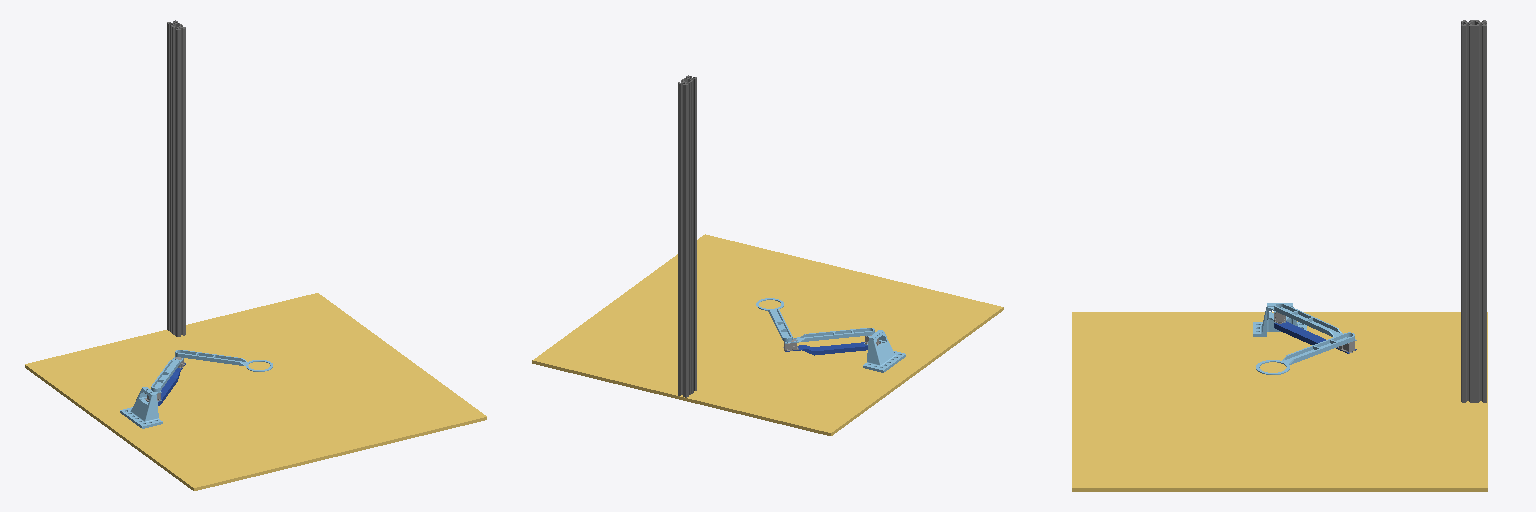
URDF robot description (project_robot):
<?xml version="1.0" ?>
<!-- Generated using onshape-to-robot -->
<!-- Onshape document_id: 0afb3ee3ed9d563e132452cb -->
<robot name="project_robot">
  <!-- Link part_1 -->
  <link name="part_1">
    <inertial>
      <origin xyz="0.241312 0.65195 0.0685751" rpy="0 0 0"/>
      <mass value="0.117967"/>
      <inertia ixx="0.00075606" ixy="-0.000672223" ixz="-0.00046422" iyy="0.00232655" iyz="-0.000159489" izz="0.00271358"/>
    </inertial>
    <!-- Part part_1 -->
    <visual>
      <origin xyz="0 0 0" rpy="0 -0 0"/>
      <geometry>
        <mesh filename="package://robot_desc/robot/assets/part_1.stl"/>
      </geometry>
      <material name="part_1_material">
        <color rgba="0.960784 0.835294 0.470588 1.0"/>
      </material>
    </visual>
    <collision>
      <origin xyz="0 0 0" rpy="0 -0 0"/>
      <geometry>
        <mesh filename="package://robot_desc/robot/assets/part_1.stl"/>
      </geometry>
    </collision>
    <!-- Part armbasemount -->
    <visual>
      <origin xyz="0.206816 0.6096 0.0727" rpy="1.5708 4.03897e-28 3.14159"/>
      <geometry>
        <mesh filename="package://robot_desc/robot/assets/armbasemount.stl"/>
      </geometry>
      <material name="armbasemount_material">
        <color rgba="0.615686 0.811765 0.929412 1.0"/>
      </material>
    </visual>
    <collision>
      <origin xyz="0.206816 0.6096 0.0727" rpy="1.5708 4.03897e-28 3.14159"/>
      <geometry>
        <mesh filename="package://robot_desc/robot/assets/armbasemount.stl"/>
      </geometry>
    </collision>
    <!-- Part 8020_1530_x_48 -->
    <visual>
      <origin xyz="0.6096 1.18015 0.0127" rpy="1.5708 2.51804e-27 1.5708"/>
      <geometry>
        <mesh filename="package://robot_desc/robot/assets/8020_1530_x_48.stl"/>
      </geometry>
      <material name="8020_1530_x_48_material">
        <color rgba="0.498039 0.498039 0.498039 1.0"/>
      </material>
    </visual>
    <collision>
      <origin xyz="0.6096 1.18015 0.0127" rpy="1.5708 2.51804e-27 1.5708"/>
      <geometry>
        <mesh filename="package://robot_desc/robot/assets/8020_1530_x_48.stl"/>
      </geometry>
    </collision>
    <!-- Part dynamixelmotor -->
    <visual>
      <origin xyz="0.194816 0.6096 0.09075" rpy="1.50988e-27 -1.59872e-14 -1.5708"/>
      <geometry>
        <mesh filename="package://robot_desc/robot/assets/dynamixelmotor.stl"/>
      </geometry>
      <material name="dynamixelmotor_material">
        <color rgba="0.647059 0.647059 0.647059 1.0"/>
      </material>
    </visual>
    <collision>
      <origin xyz="0.194816 0.6096 0.09075" rpy="1.50988e-27 -1.59872e-14 -1.5708"/>
      <geometry>
        <mesh filename="package://robot_desc/robot/assets/dynamixelmotor.stl"/>
      </geometry>
    </collision>
    <!-- Part topshoulderlink -->
    <visual>
      <origin xyz="0.318995 0.725464 0.11125" rpy="-5.45442e-16 -1.37603e-15 0.751951"/>
      <geometry>
        <mesh filename="package://robot_desc/robot/assets/topshoulderlink.stl"/>
      </geometry>
      <material name="topshoulderlink_material">
        <color rgba="0.615686 0.811765 0.929412 1.0"/>
      </material>
    </visual>
    <collision>
      <origin xyz="0.318995 0.725464 0.11125" rpy="-5.45442e-16 -1.37603e-15 0.751951"/>
      <geometry>
        <mesh filename="package://robot_desc/robot/assets/topshoulderlink.stl"/>
      </geometry>
    </collision>
    <!-- Part motorhorn -->
    <visual>
      <origin xyz="0.399873 0.729104 0.07775" rpy="-3.14159 -2.71435e-16 -2.55565"/>
      <geometry>
        <mesh filename="package://robot_desc/robot/assets/motorhorn.stl"/>
      </geometry>
      <material name="motorhorn_material">
        <color rgba="0.647059 0.647059 0.647059 1.0"/>
      </material>
    </visual>
    <collision>
      <origin xyz="0.399873 0.729104 0.07775" rpy="-3.14159 -2.71435e-16 -2.55565"/>
      <geometry>
        <mesh filename="package://robot_desc/robot/assets/motorhorn.stl"/>
      </geometry>
    </collision>
    <!-- Part hooplink -->
    <visual>
      <origin xyz="0.652242 0.79964 0.11675" rpy="7.8454e-16 -1.01634e-15 -0.841585"/>
      <geometry>
        <mesh filename="package://robot_desc/robot/assets/hooplink.stl"/>
      </geometry>
      <material name="hooplink_material">
        <color rgba="0.615686 0.811765 0.929412 1.0"/>
      </material>
    </visual>
    <collision>
      <origin xyz="0.652242 0.79964 0.11675" rpy="7.8454e-16 -1.01634e-15 -0.841585"/>
      <geometry>
        <mesh filename="package://robot_desc/robot/assets/hooplink.stl"/>
      </geometry>
    </collision>
    <!-- Part bottomshoulderlink -->
    <visual>
      <origin xyz="0.368641 0.67238 0.07025" rpy="3.14159 -1.37603e-15 0.751951"/>
      <geometry>
        <mesh filename="package://robot_desc/robot/assets/bottomshoulderlink.stl"/>
      </geometry>
      <material name="bottomshoulderlink_material">
        <color rgba="0.231373 0.380392 0.705882 1.0"/>
      </material>
    </visual>
    <collision>
      <origin xyz="0.368641 0.67238 0.07025" rpy="3.14159 -1.37603e-15 0.751951"/>
      <geometry>
        <mesh filename="package://robot_desc/robot/assets/bottomshoulderlink.stl"/>
      </geometry>
    </collision>
    <!-- Part motorhorn_2 -->
    <visual>
      <origin xyz="0.131749 0.552632 0.07025" rpy="1.15994e-16 -2.40898e-17 -1.5708"/>
      <geometry>
        <mesh filename="package://robot_desc/robot/assets/motorhorn.stl"/>
      </geometry>
      <material name="motorhorn_2_material">
        <color rgba="0.647059 0.647059 0.647059 1.0"/>
      </material>
    </visual>
    <collision>
      <origin xyz="0.131749 0.552632 0.07025" rpy="1.15994e-16 -2.40898e-17 -1.5708"/>
      <geometry>
        <mesh filename="package://robot_desc/robot/assets/motorhorn.stl"/>
      </geometry>
    </collision>
    <!-- Part dynamixelmotor_2 -->
    <visual>
      <origin xyz="0.412463 0.813153 0.09625" rpy="1.37603e-15 -4.97532e-16 -0.818845"/>
      <geometry>
        <mesh filename="package://robot_desc/robot/assets/dynamixelmotor.stl"/>
      </geometry>
      <material name="dynamixelmotor_2_material">
        <color rgba="0.647059 0.647059 0.647059 1.0"/>
      </material>
    </visual>
    <collision>
      <origin xyz="0.412463 0.813153 0.09625" rpy="1.37603e-15 -4.97532e-16 -0.818845"/>
      <geometry>
        <mesh filename="package://robot_desc/robot/assets/dynamixelmotor.stl"/>
      </geometry>
    </collision>
  </link>
</robot>

--- Render facts (derived) ---
Views: 3 orthographic renders of the robot side by side, from view 1: azimuth 30°, elevation 25°; view 2: azimuth 150°, elevation 25°; view 3: azimuth 270°, elevation 25°.
Model project_robot with 1 links and 0 joints (none), rooted at part_1, posed every joint at zero.
Visible links, largest first — view 1: part_1; view 2: part_1; view 3: part_1.
Boxes of the visible links, x1,y1,x2,y2 form: part_1: (25,20,486,490); part_1: (532,75,1003,435); part_1: (1072,20,1487,491).
Bounding box of the posed robot: 1.22 × 1.22 × 1.23 m (x, y, z).
Meshes: 8 distinct files referenced, 10 mesh visuals loaded (8 binary STL).
